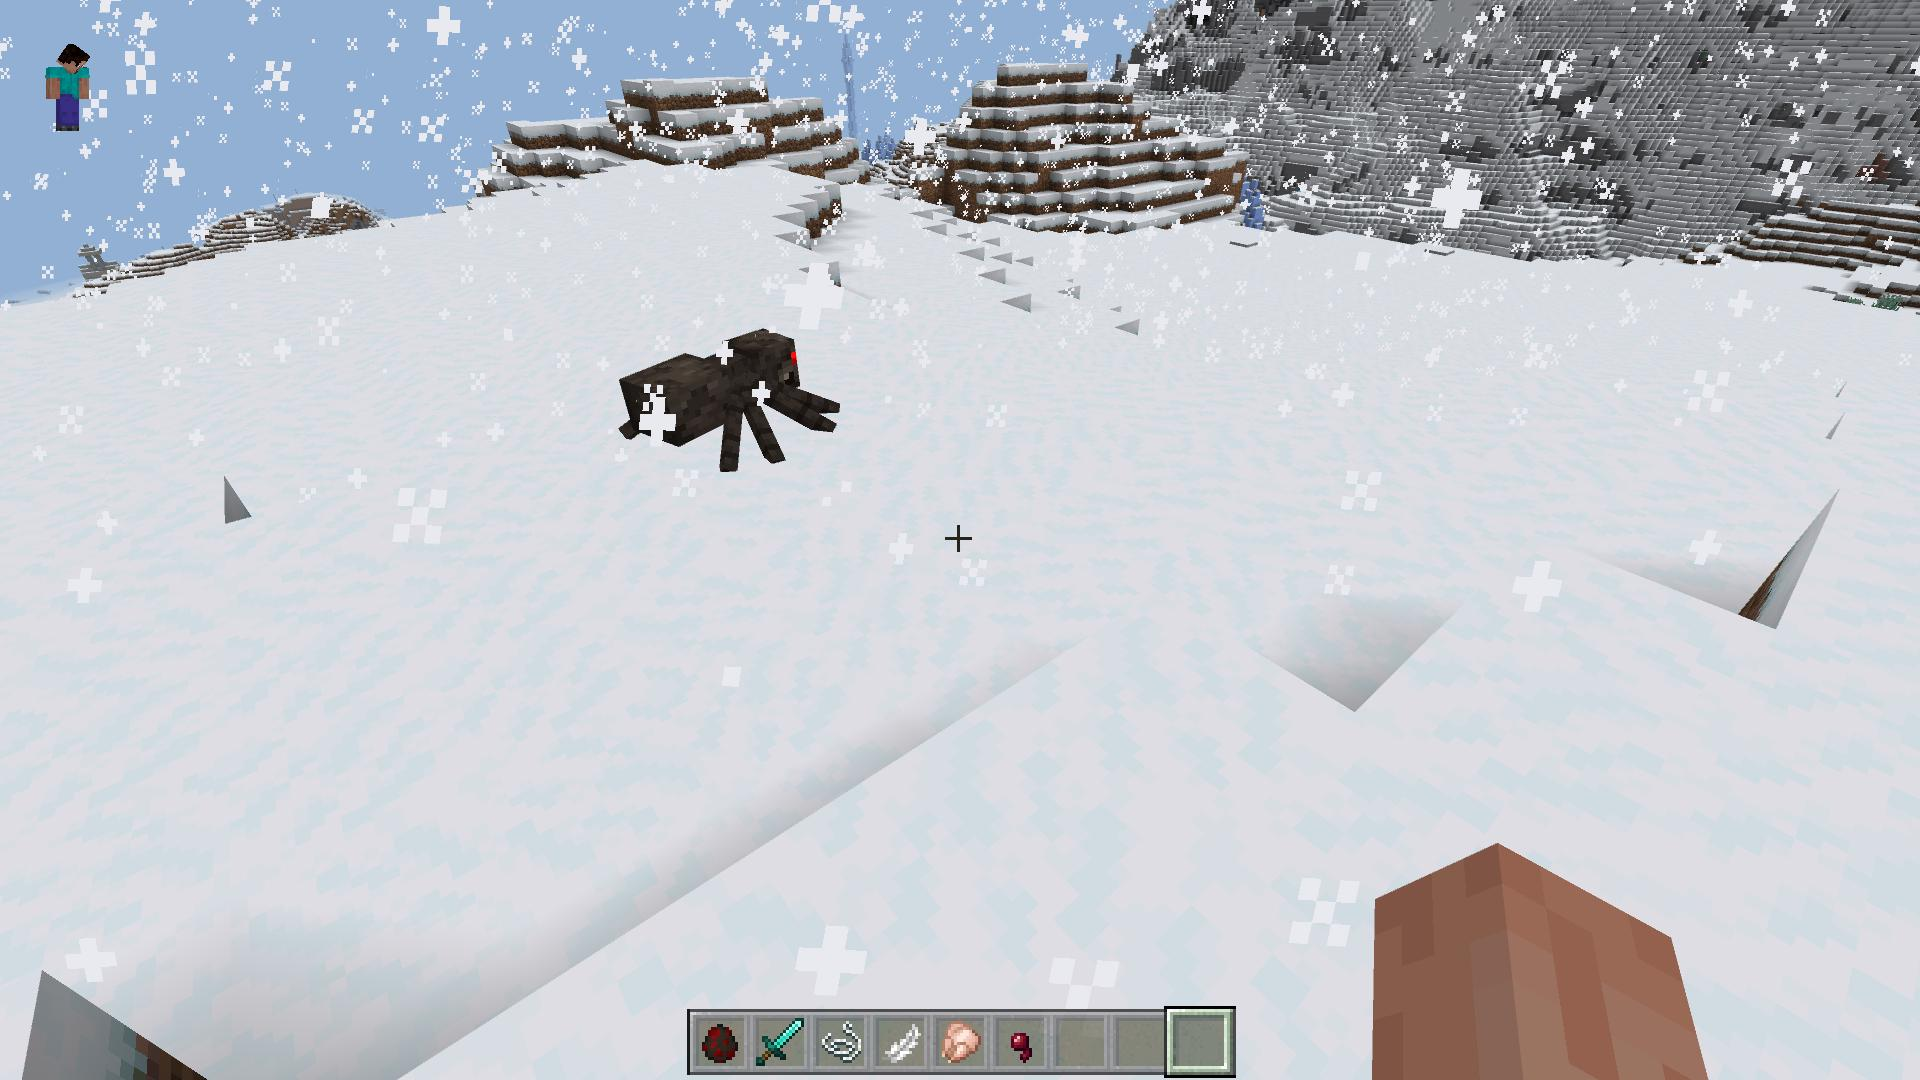spider: (621, 323, 845, 475)
